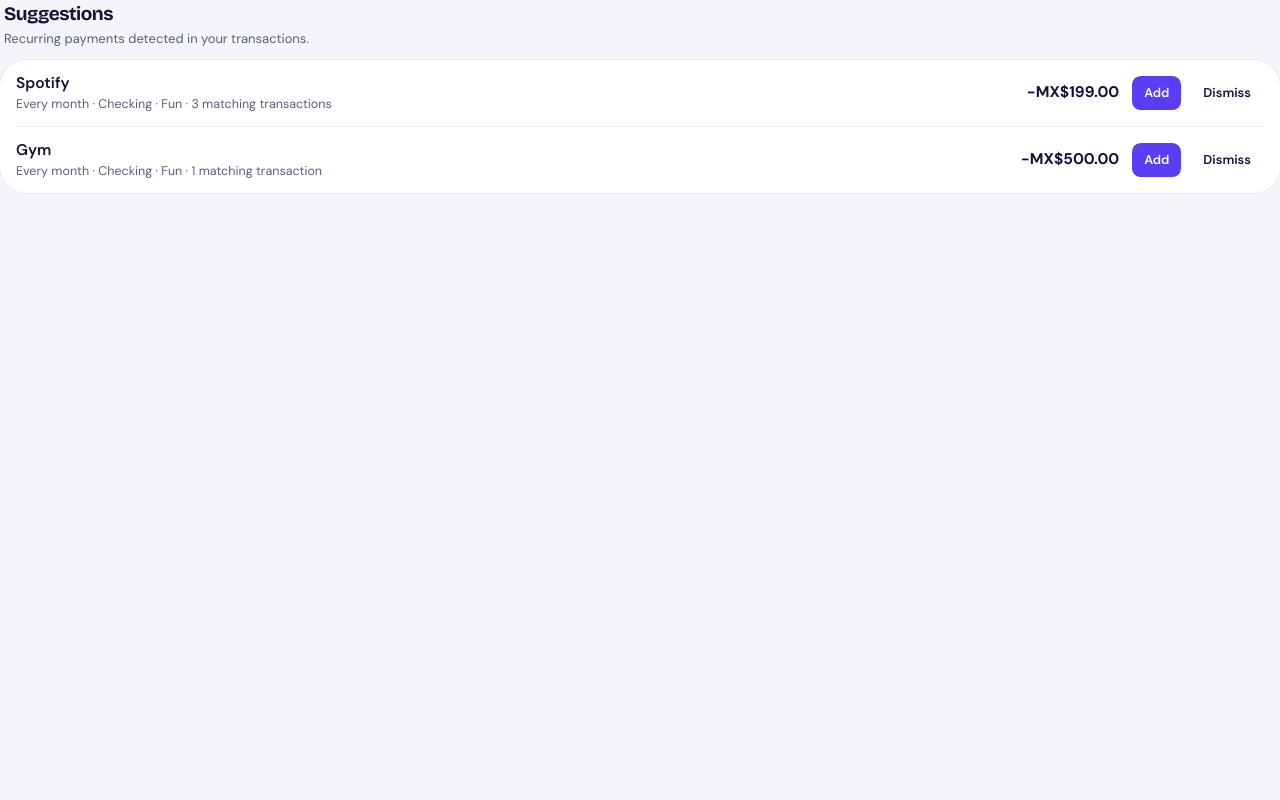
Test: SuggestionsList › opens a dialog prefilled with the suggested name and amount
This screenshot has width=1280, height=800.
Click the button "Add" in the row of "Gym": [1157, 160] box [1131, 142, 1182, 178]
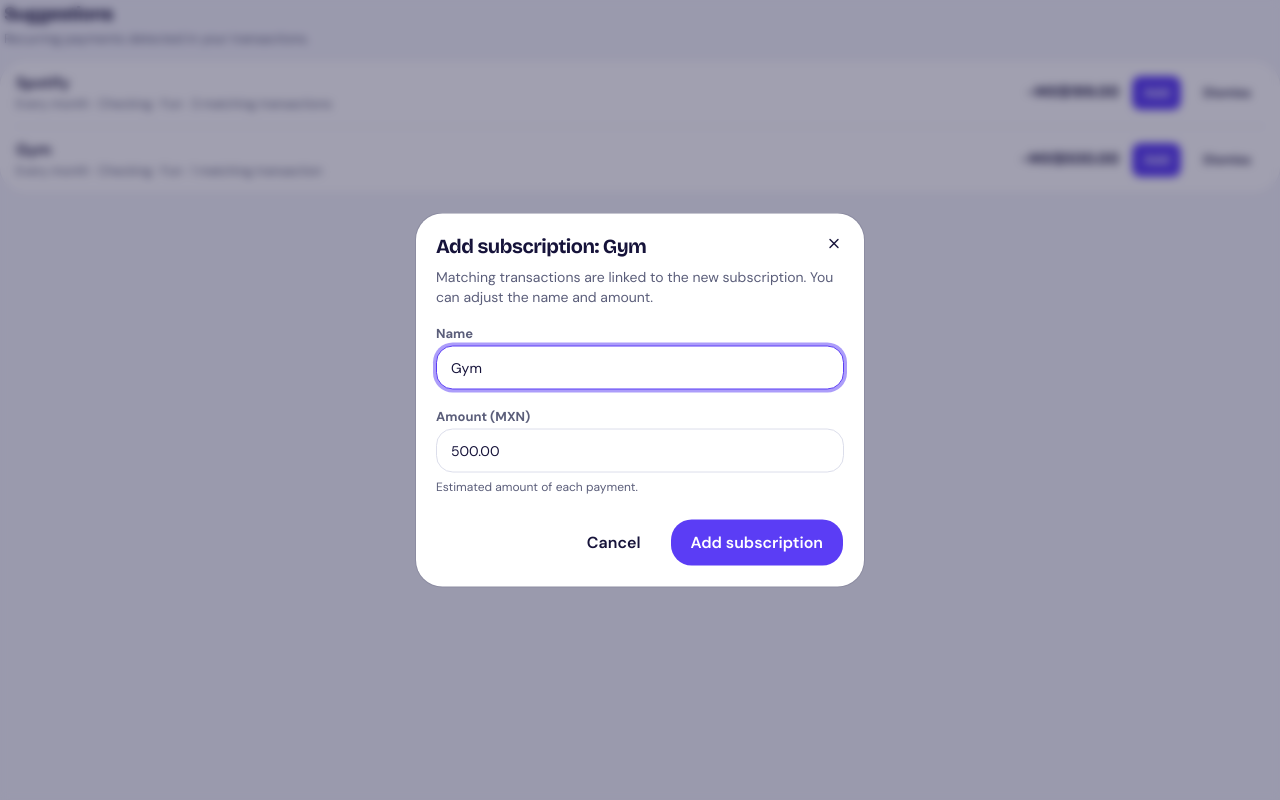
Check: the dialog "Add subscription: Gym" is shown, box [416, 214, 864, 586]
Check: the field labelled "Name" holds "Gym", box [436, 346, 844, 390]
Check: the field labelled "Amount (MXN)" holds "500.00", box [436, 428, 844, 472]
